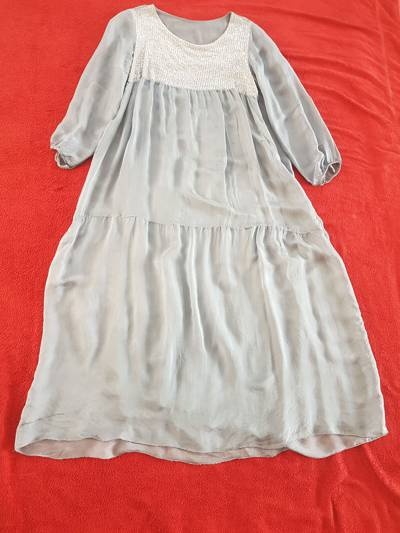Dress: (9, 8, 378, 493)
